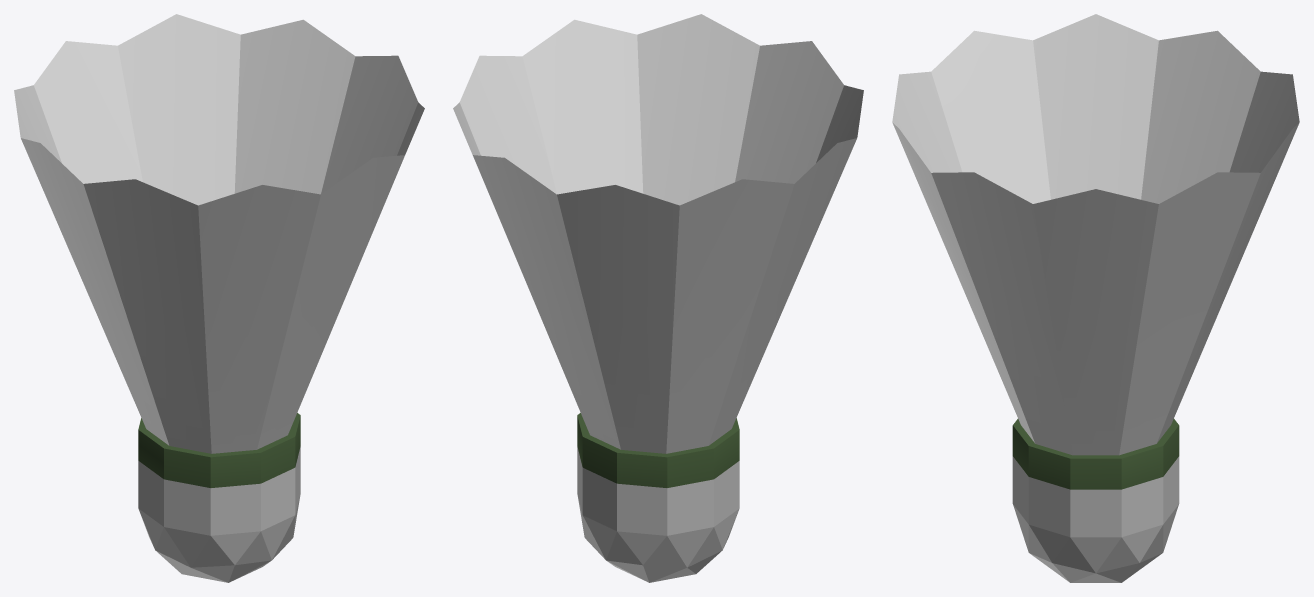
Rendered from SM_Prop_Badminton_Shuttle_01.fbx.
3 renders of one model, left to right at view 1: azimuth 30°, elevation 25°; view 2: azimuth 150°, elevation 25°; view 3: azimuth 270°, elevation 25°, orthographic.
Visible parts, largest first — view 1: SM_Prop_Badminton_Shuttle_01; view 2: SM_Prop_Badminton_Shuttle_01; view 3: SM_Prop_Badminton_Shuttle_01.
Boxes of the visible parts, x1,y1,x2,y2 form: SM_Prop_Badminton_Shuttle_01: (14, 14, 424, 582); SM_Prop_Badminton_Shuttle_01: (453, 14, 863, 582); SM_Prop_Badminton_Shuttle_01: (892, 14, 1299, 582).
Bounding box in the file's own units: 16 × 20.37 × 15.74.
